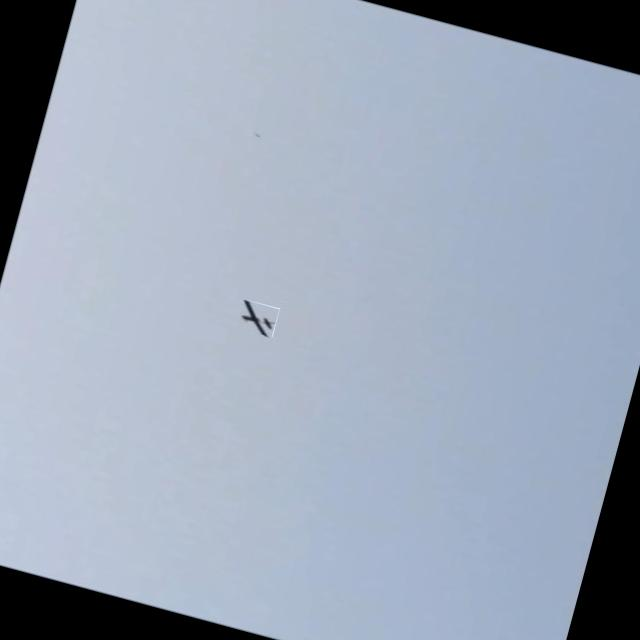UAV: (216, 294, 282, 348)
